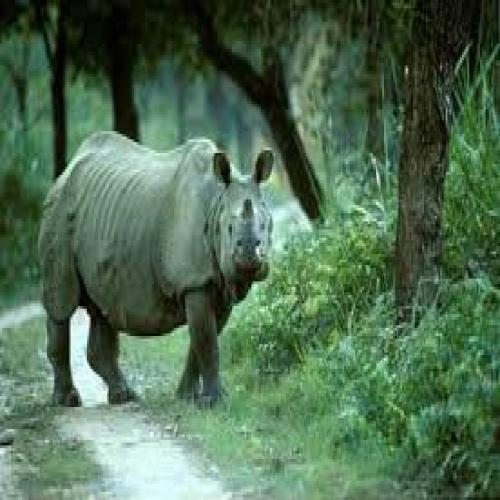rhino-endangered: (38, 128, 277, 409)
